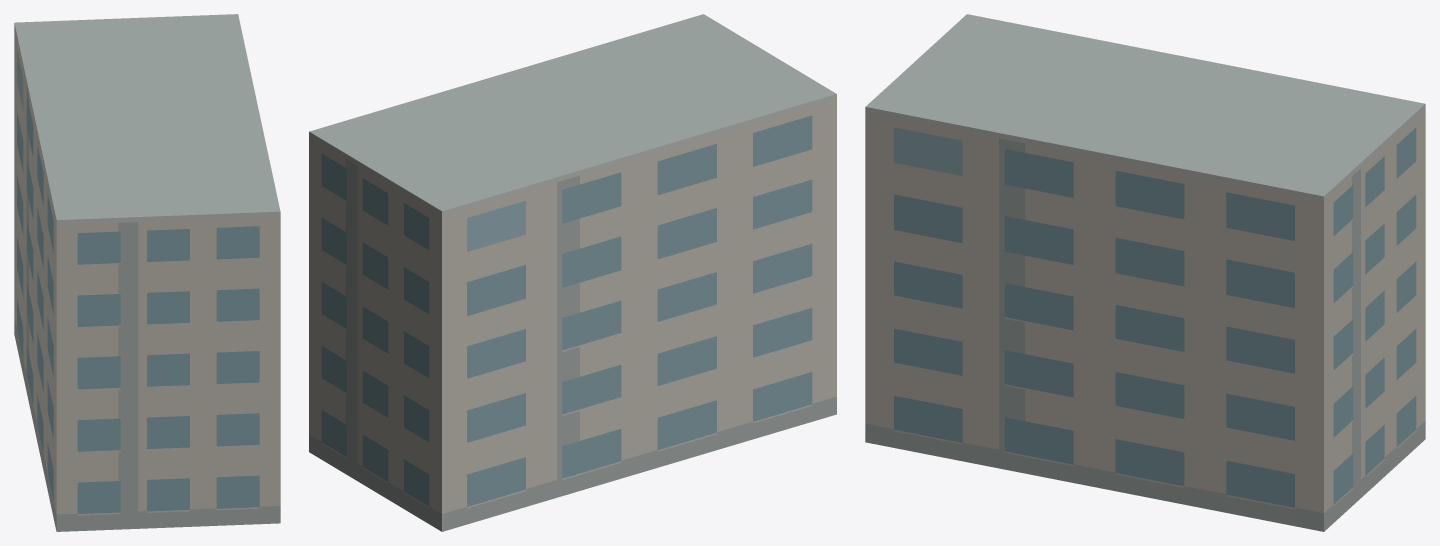
Rendered from residential-65b5f9f1-394e-4d07-bf0d-f8399ebcef4a.glb.
3 views of the same model, side by side, from view 1: azimuth 30°, elevation 25°; view 2: azimuth 150°, elevation 25°; view 3: azimuth 270°, elevation 25° (orthographic). The views are drawn at different scales.
Visible parts, largest first — view 1: residential-65b5f9f1-394e-4d07-bf0d-f8399ebcef4a.tmp; view 2: residential-65b5f9f1-394e-4d07-bf0d-f8399ebcef4a.tmp; view 3: residential-65b5f9f1-394e-4d07-bf0d-f8399ebcef4a.tmp.
Boxes of the visible parts, x1,y1,x2,y2 form: residential-65b5f9f1-394e-4d07-bf0d-f8399ebcef4a.tmp: (14, 14, 280, 531); residential-65b5f9f1-394e-4d07-bf0d-f8399ebcef4a.tmp: (309, 14, 836, 531); residential-65b5f9f1-394e-4d07-bf0d-f8399ebcef4a.tmp: (865, 14, 1425, 531).
Size of the model in its own units: 17.79 by 15.25 by 23.09.
